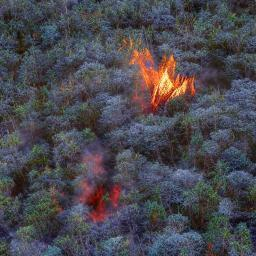Medium fire: (125, 39, 201, 108)
Small fire: (75, 158, 126, 224)
